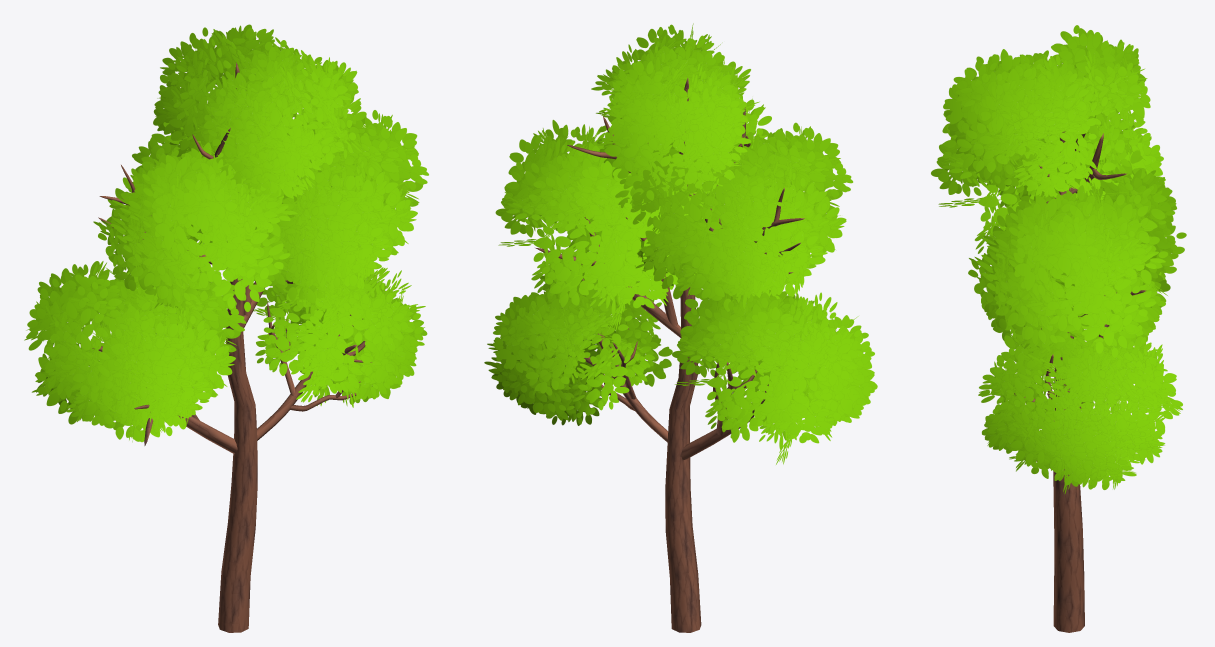
Rendered from Tree2.glb.
The picture shows the model from 3 angles, left to right: view 1: azimuth 30°, elevation 25°; view 2: azimuth 150°, elevation 25°; view 3: azimuth 270°, elevation 25°; orthographic projection. The views are drawn at different scales.
Parts seen in each view (by area): view 1: NormalTree_2; view 2: NormalTree_2; view 3: NormalTree_2.
Part boxes in pixels (<box>): NormalTree_2: <box>24,24,428,632</box>; NormalTree_2: <box>484,23,877,632</box>; NormalTree_2: <box>931,25,1186,632</box>.
Size of the model in its own units: 4.55 by 6.56 by 2.79.
Materials: 2 (2 with a texture image).
